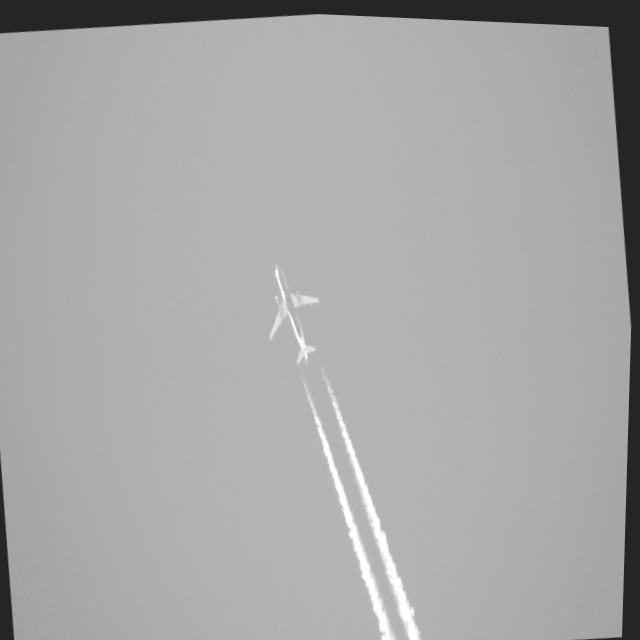aeroplane: (256, 248, 329, 366)
